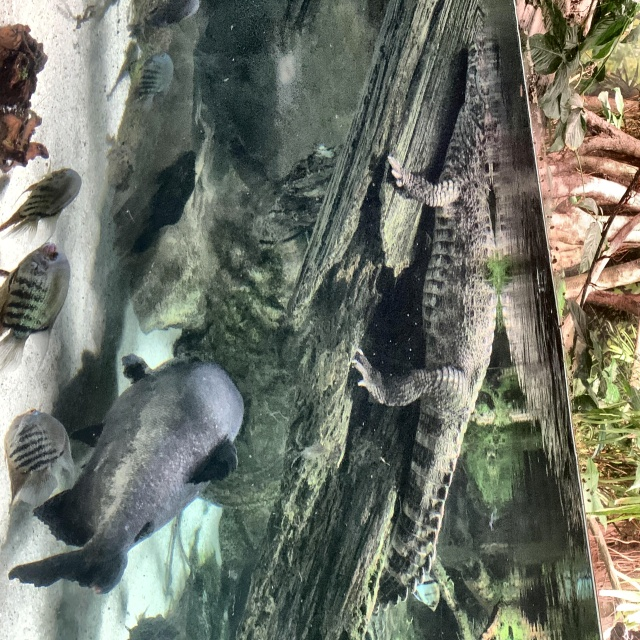fish: (5, 346, 248, 599), (0, 241, 73, 370), (1, 402, 76, 508), (0, 164, 83, 244), (129, 1, 199, 50), (127, 51, 176, 114), (413, 568, 440, 614)
